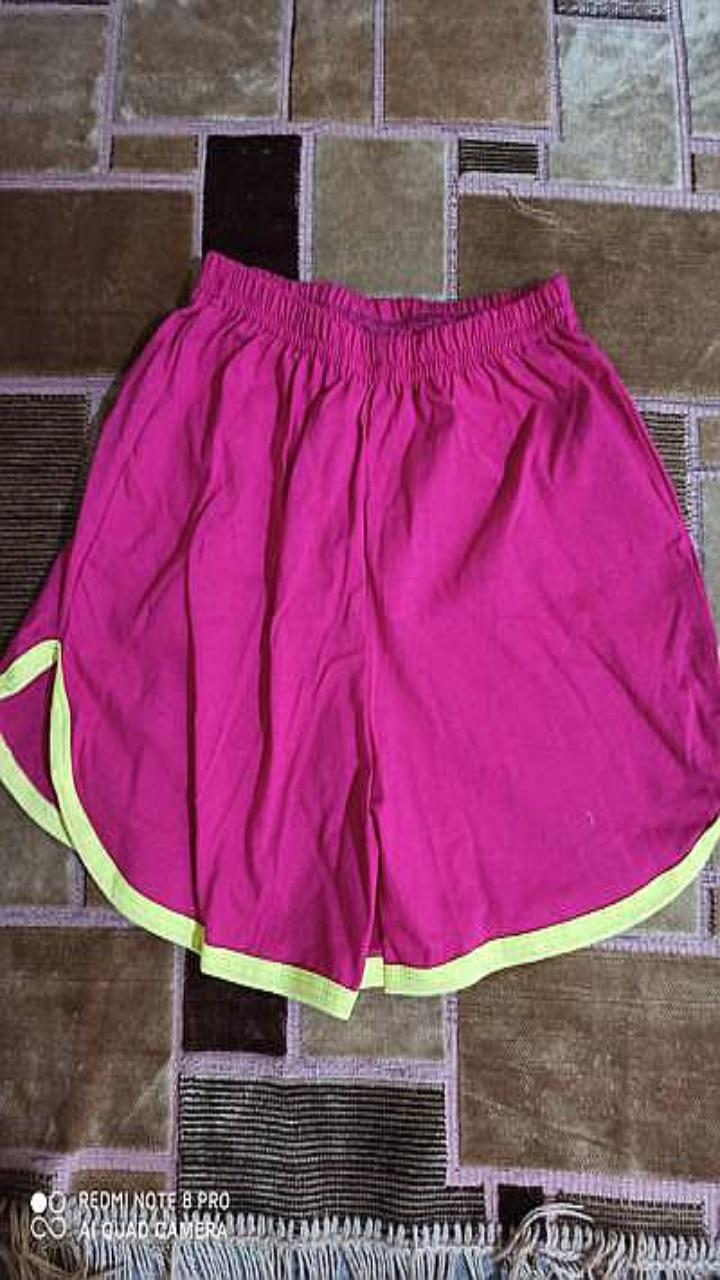Shorts: (0, 250, 719, 1018)
